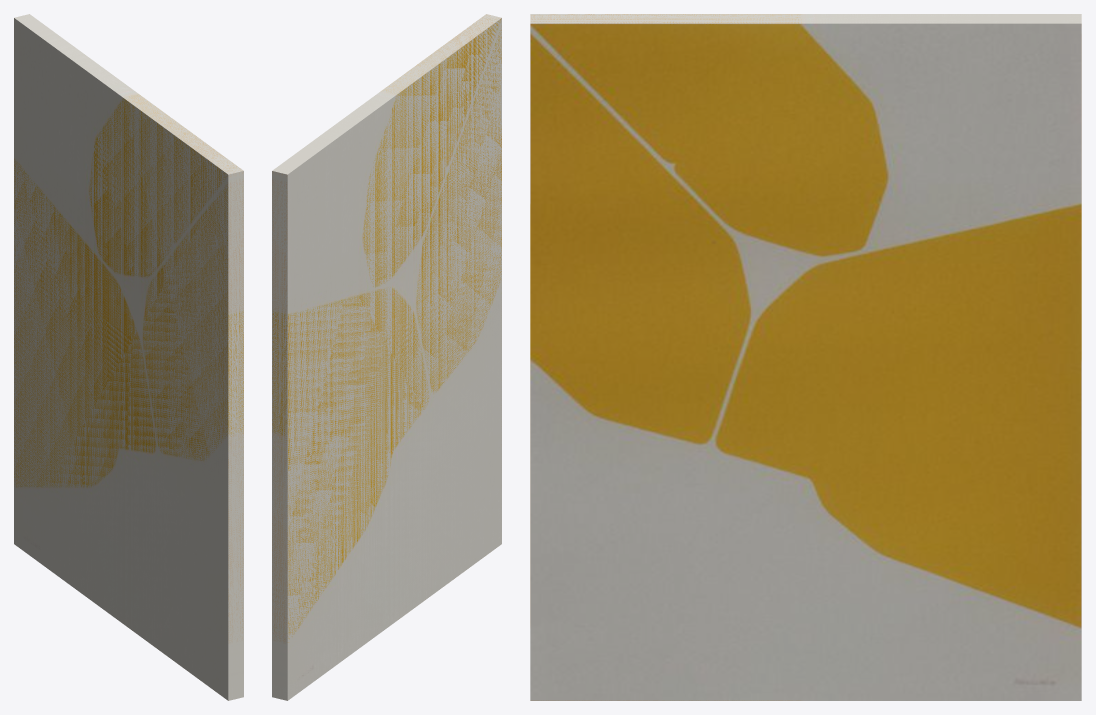
Rendered from Yellow_Art.fbx.
The picture shows the model from 3 angles, left to right: view 1: azimuth 30°, elevation 25°; view 2: azimuth 150°, elevation 25°; view 3: azimuth 270°, elevation 25°; orthographic projection. The views are drawn at different scales.
Parts seen in each view (by area): view 1: Group1; view 2: Group1; view 3: Group1.
Boxes of the visible parts, bbox=[...] form: Group1: bbox=[14, 14, 243, 700]; Group1: bbox=[272, 14, 501, 700]; Group1: bbox=[530, 14, 1081, 700].
Size of the model in its own units: 2.14 by 68.9 by 50.85.
